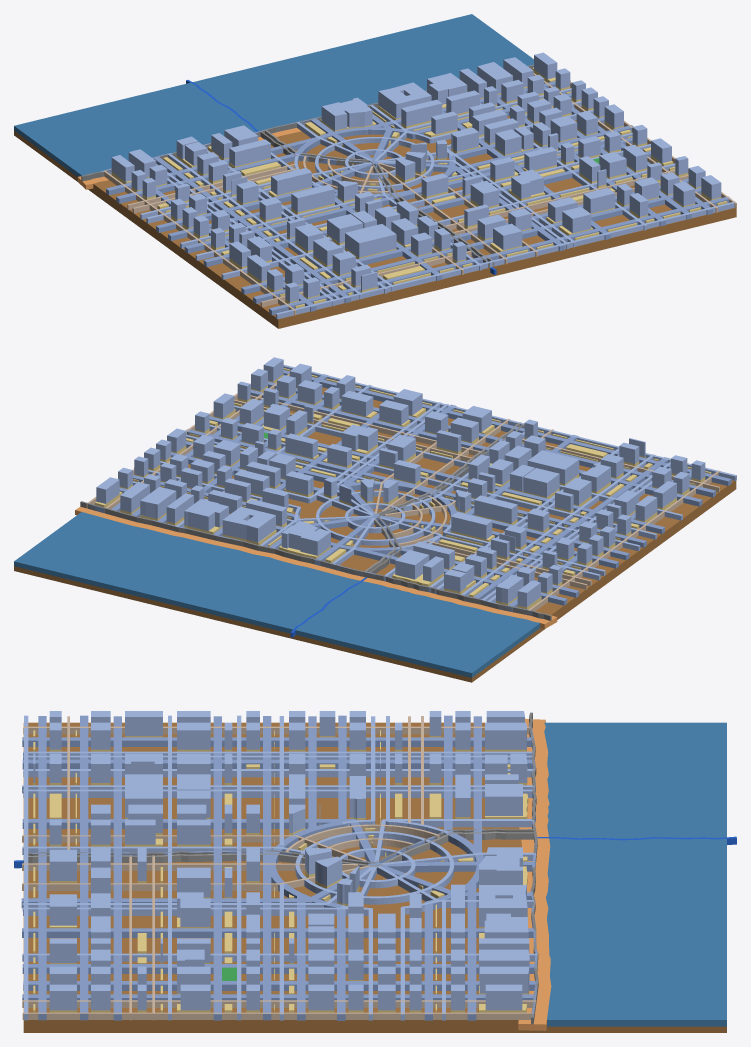
Rendered from city.glb.
3 views of the same model, one above another, from view 1: azimuth 30°, elevation 25°; view 2: azimuth 150°, elevation 25°; view 3: azimuth 270°, elevation 25° (orthographic). The views are drawn at different scales.
Parts seen in each view (by area): view 1: buildings_divided, sea, main_roads, major_roads, ground, blocks, minor_roads, water_roads, water_roads_secondary; view 2: buildings_divided, sea, main_roads, major_roads, ground, blocks, minor_roads, water_roads, coastline, water_roads_secondary; view 3: buildings_divided, sea, main_roads, ground, major_roads, minor_roads, blocks, coastline, water_roads_secondary, water_roads, river.
Boxes of the visible parts, x1,y1,x2,y2 form: buildings_divided: [111, 52, 721, 301]; sea: [14, 14, 533, 176]; main_roads: [101, 65, 730, 315]; major_roads: [140, 88, 734, 319]; ground: [14, 88, 736, 328]; blocks: [111, 67, 727, 308]; minor_roads: [104, 73, 736, 315]; water_roads: [81, 64, 533, 267]; water_roads_secondary: [265, 130, 494, 266]; buildings_divided: [96, 357, 705, 607]; sea: [14, 512, 540, 677]; main_roads: [80, 370, 731, 615]; major_roads: [133, 365, 736, 602]; ground: [14, 387, 736, 682]; blocks: [95, 368, 711, 609]; minor_roads: [86, 373, 720, 611]; water_roads: [80, 423, 551, 620]; coastline: [75, 506, 557, 628]; water_roads_secondary: [364, 422, 521, 571]; buildings_divided: [33, 711, 529, 1010]; sea: [544, 722, 726, 1026]; main_roads: [21, 715, 537, 1020]; ground: [23, 722, 726, 1032]; major_roads: [22, 715, 537, 1020]; minor_roads: [22, 716, 535, 1020]; blocks: [33, 730, 530, 1012]; coastline: [518, 718, 551, 1030]; water_roads_secondary: [23, 831, 533, 867]; water_roads: [28, 712, 538, 1024]; river: [14, 836, 736, 868].
Size of the model in its own units: 103 by 6 by 103.
